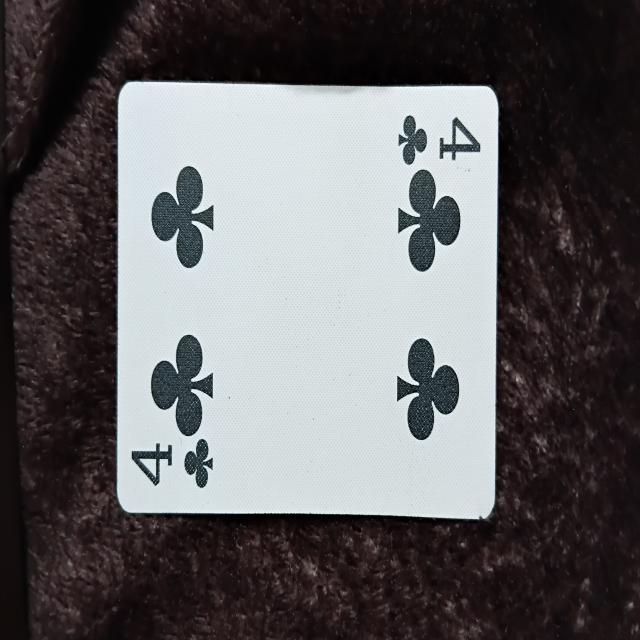4C: (114, 78, 498, 520)
